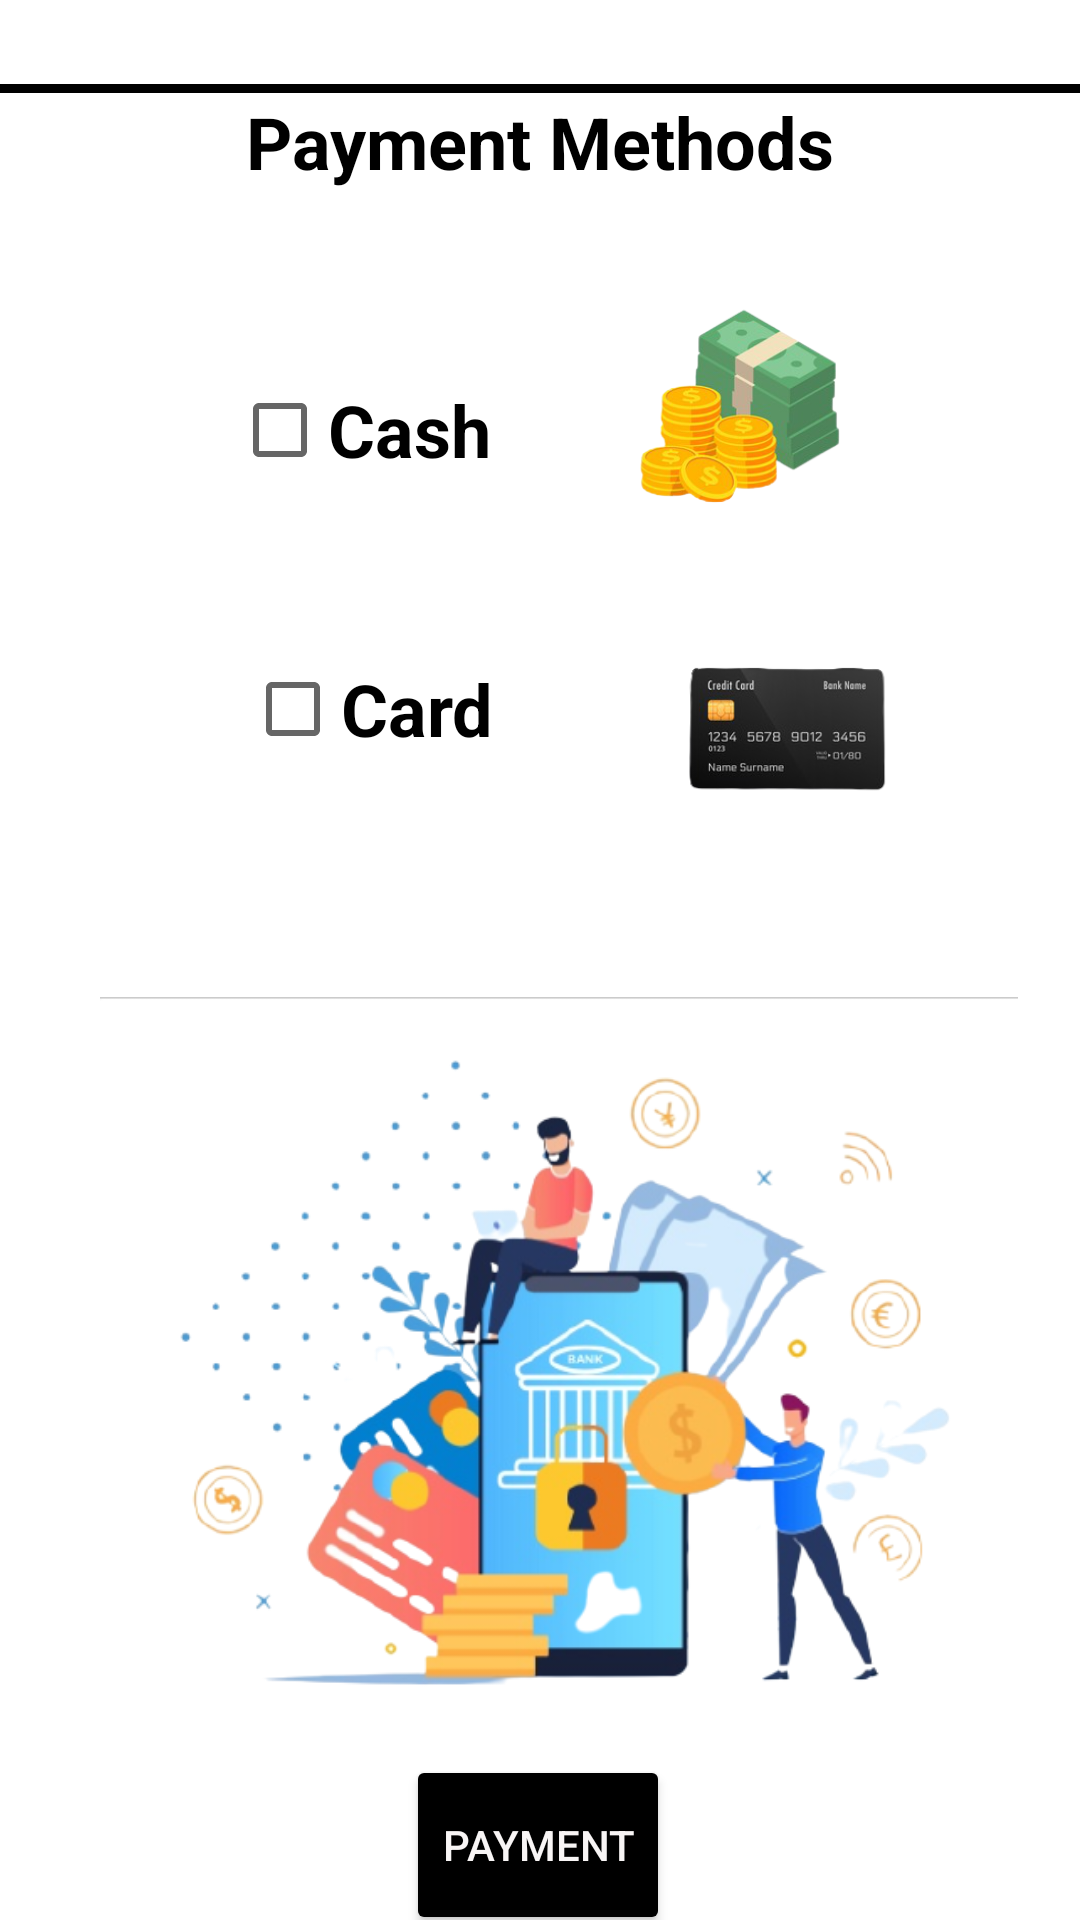

Where icons sit on this 1080px x 1920px app screen, as bbox=[x1, y1, x2, y2]:
mney: bbox=[640, 310, 839, 502]
